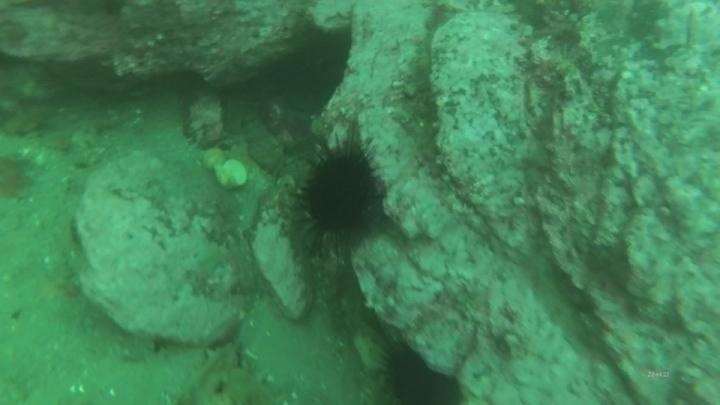echinus: (296, 137, 385, 247), (374, 340, 462, 405)
holothurian: (181, 336, 245, 405), (224, 362, 284, 405)
